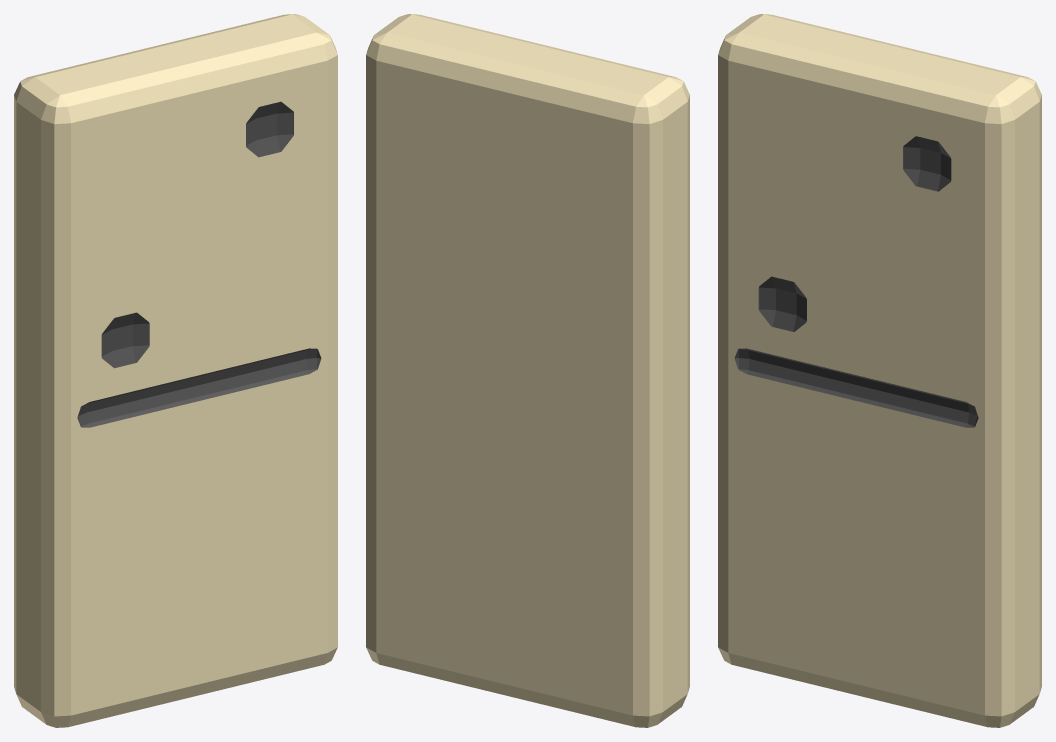
Rendered from dominoes 2x0.fbx.
3 views of the same model, side by side, from view 1: azimuth 30°, elevation 25°; view 2: azimuth 150°, elevation 25°; view 3: azimuth 330°, elevation 25° (orthographic).
Visible parts, largest first — view 1: Boole_12; view 2: Boole_12; view 3: Boole_12.
Part boxes in pixels (x1=…): Boole_12: x1=14, y1=14, x2=337, y2=727; Boole_12: x1=366, y1=14, x2=689, y2=727; Boole_12: x1=718, y1=14, x2=1041, y2=727.
Bounding box in the file's own units: 200 × 410 × 55.02.
